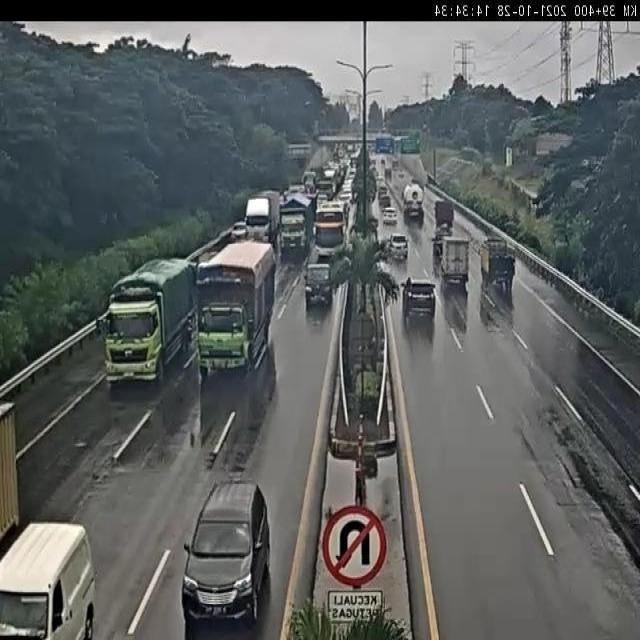Car: (178, 479, 278, 631), (1, 520, 95, 636), (402, 278, 437, 326), (304, 263, 334, 310), (388, 233, 409, 259), (378, 179, 392, 210), (231, 221, 248, 241), (382, 207, 398, 225), (302, 170, 316, 189), (316, 193, 328, 206), (392, 157, 399, 169), (398, 172, 404, 178)
Truck: (100, 257, 198, 387), (195, 239, 277, 375), (474, 226, 517, 293), (279, 192, 317, 263), (244, 189, 282, 254), (313, 202, 347, 262), (438, 236, 470, 291), (403, 180, 425, 221), (434, 199, 454, 233)
